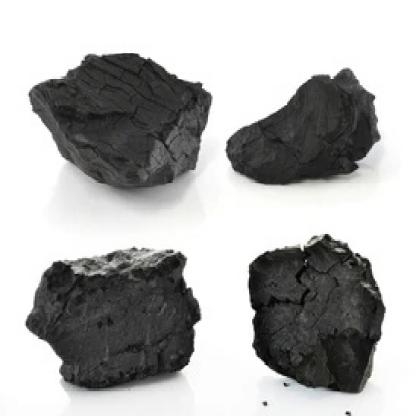Sedimentary_coal: (242, 215, 402, 400), (25, 232, 204, 385), (29, 42, 212, 190), (217, 46, 389, 190)
